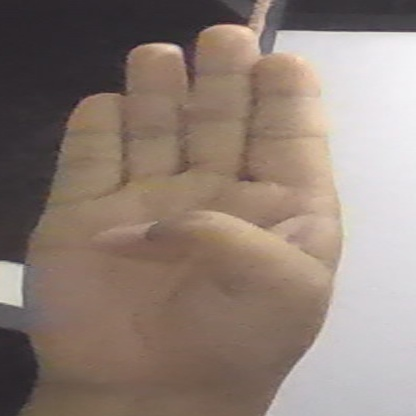B: (28, 27, 340, 397)
